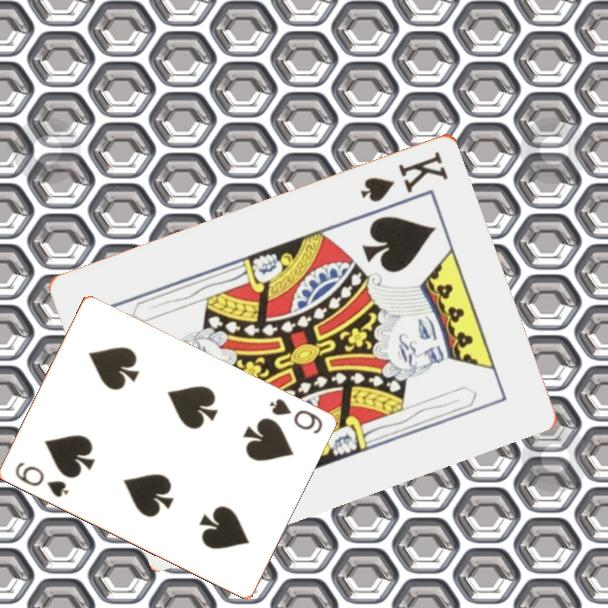s06: (11, 459, 71, 501), (265, 395, 325, 437)
s13: (357, 147, 452, 205)
